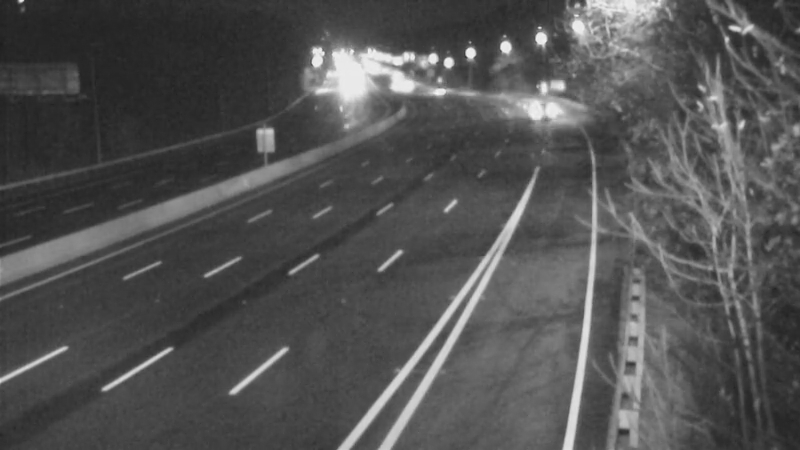vehicle: (415, 63, 465, 113), (516, 88, 566, 138)
